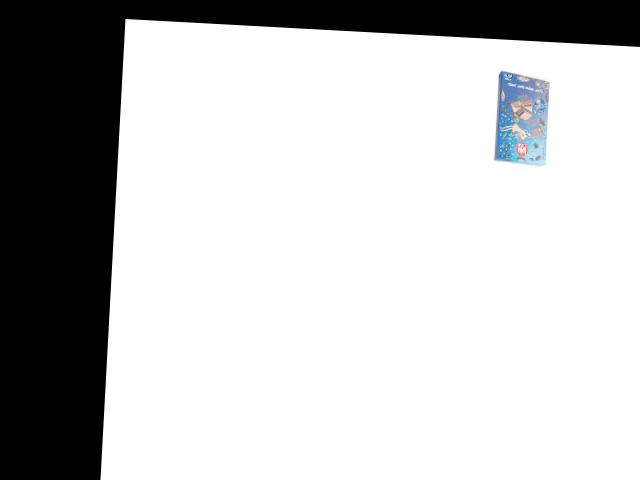chocolate: (487, 70, 557, 168)
